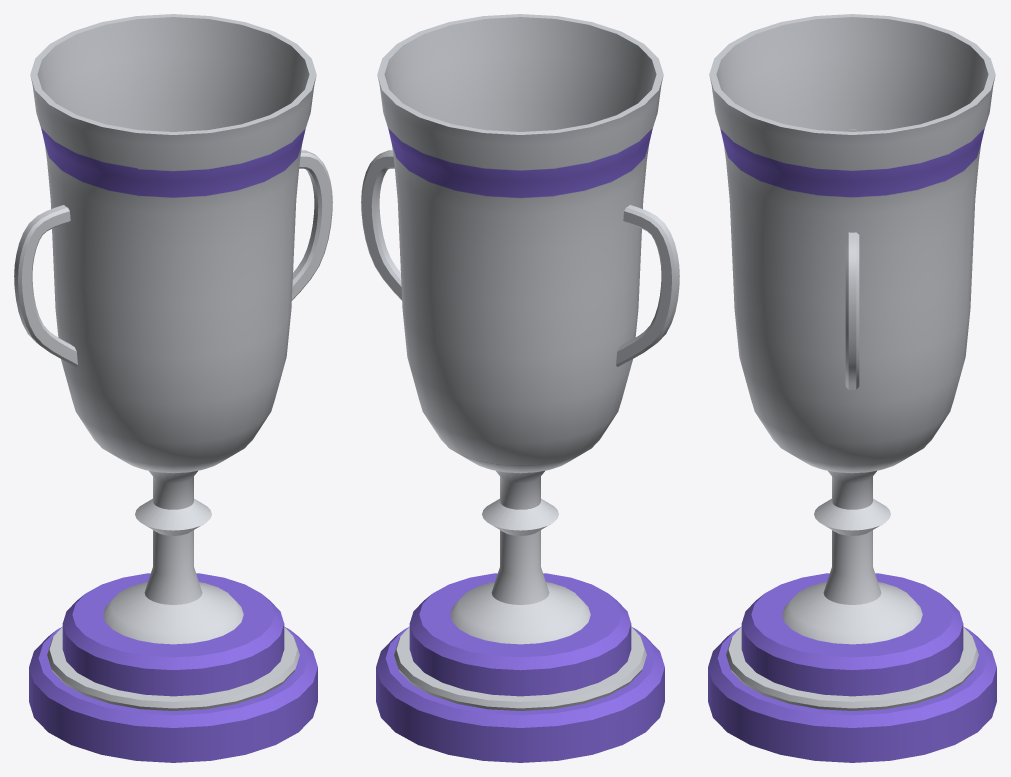
Rendered from SM_FS_Cup.glb.
The picture shows the model from 3 angles, left to right: view 1: azimuth 30°, elevation 25°; view 2: azimuth 150°, elevation 25°; view 3: azimuth 270°, elevation 25°; orthographic projection.
Parts seen in each view (by area): view 1: SM_FS_Cup; view 2: SM_FS_Cup; view 3: SM_FS_Cup.
Boxes of the visible parts, <box> form: SM_FS_Cup: <box>14,14,332,762</box>; SM_FS_Cup: <box>361,14,679,762</box>; SM_FS_Cup: <box>708,14,996,762</box>.
Size of the model in its own units: 0.151 by 0.2875 by 0.12.
Materials: 1 (1 with a texture image).
